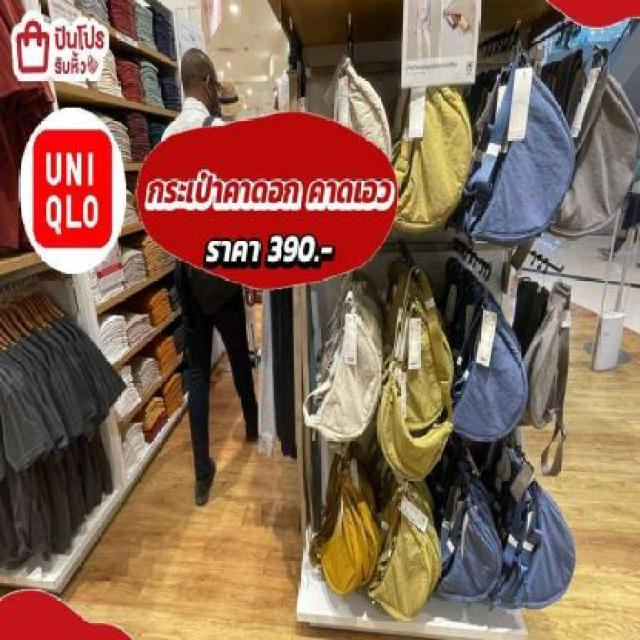Bag: (464, 39, 574, 252), (390, 49, 481, 258), (300, 275, 392, 477), (557, 45, 640, 261), (484, 462, 584, 626), (459, 267, 535, 459), (390, 260, 467, 438), (431, 461, 512, 616), (371, 472, 443, 640), (291, 452, 372, 596)
